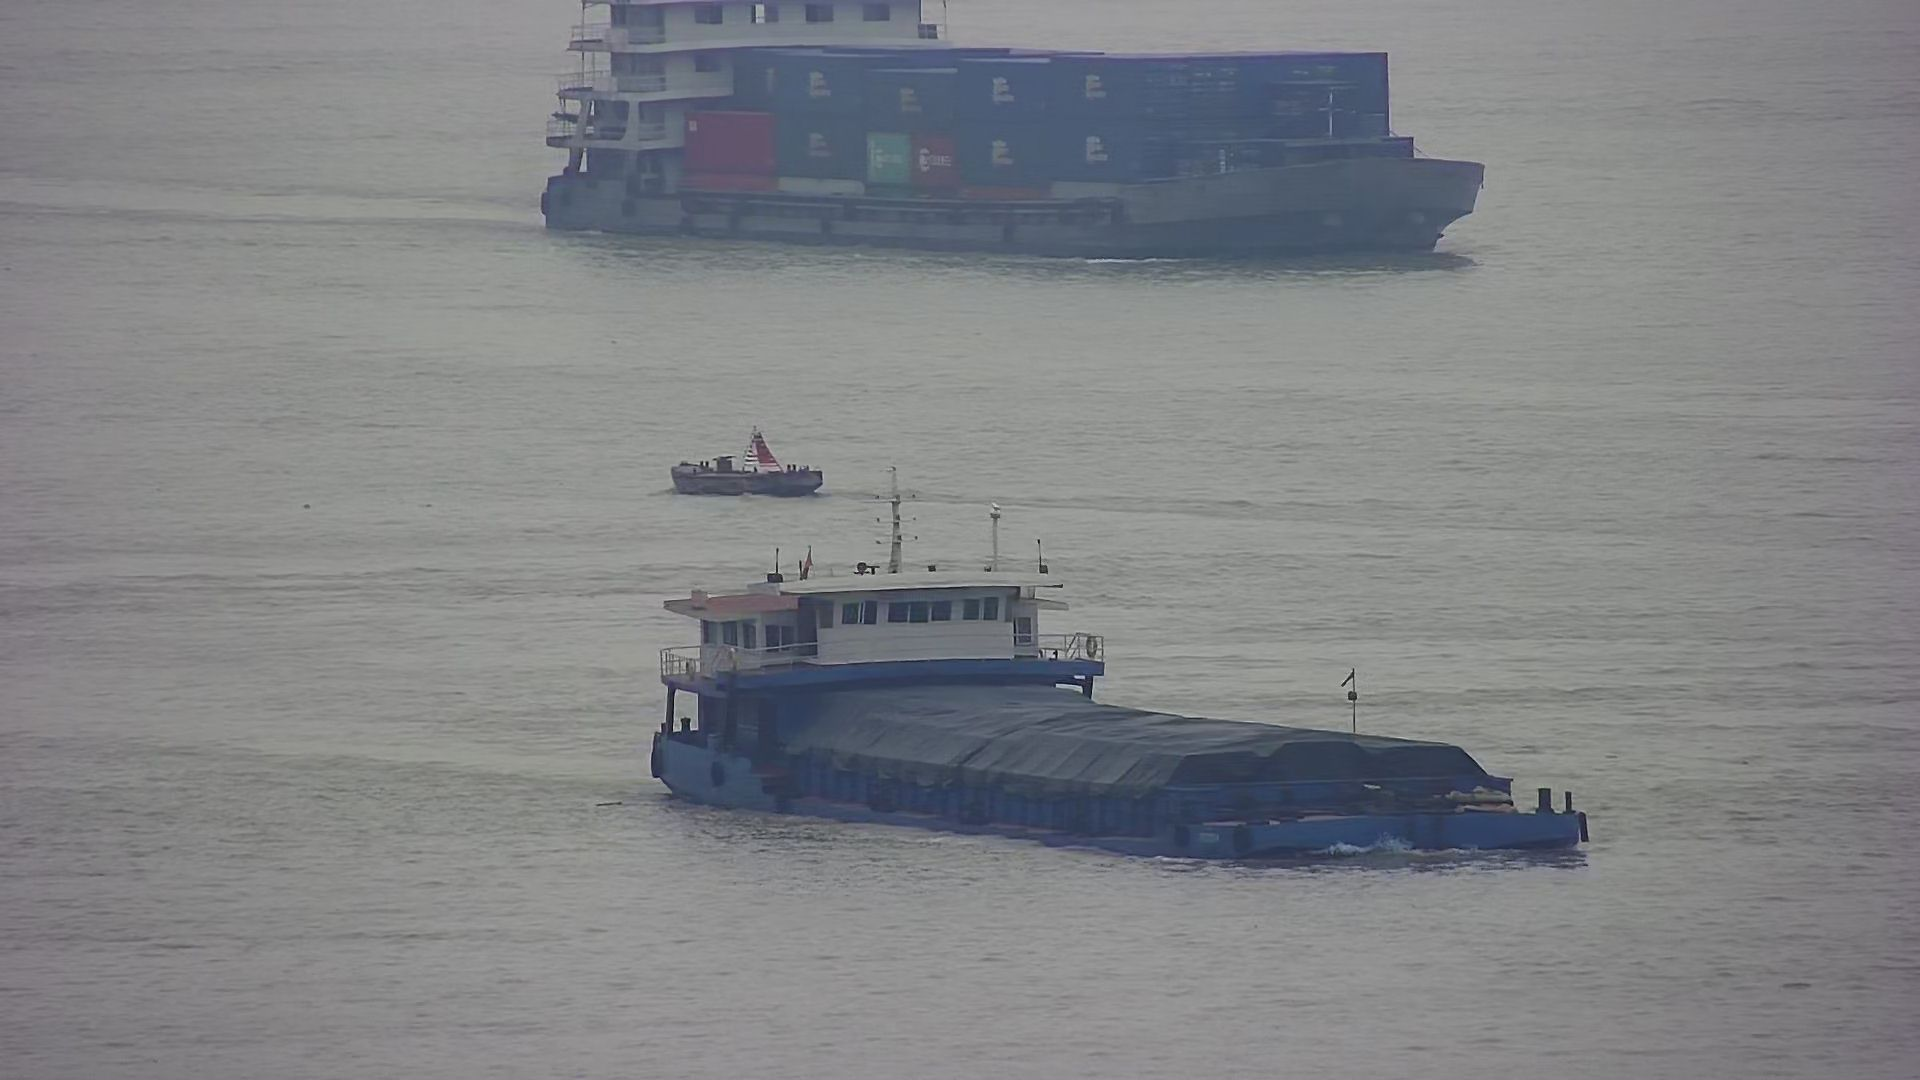boat: (667, 418, 825, 500)
ship: (658, 462, 1594, 861), (535, 1, 1485, 261)
